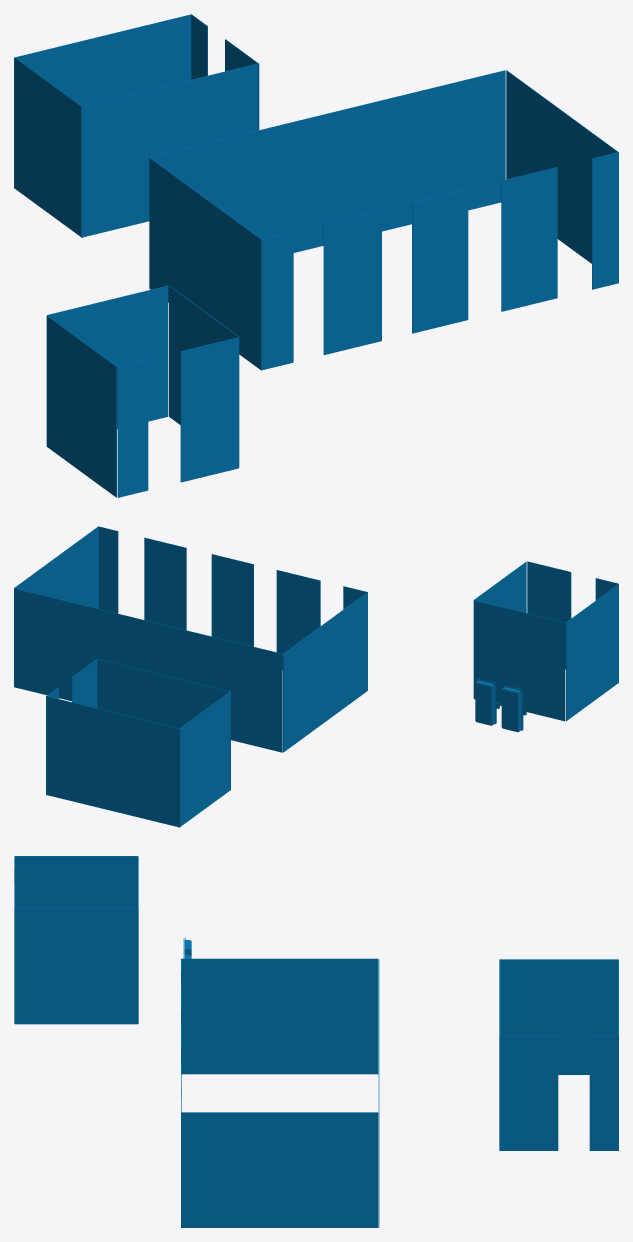
Rendered from Zoll_Base_Version3_Level_3_IfcPlate.dae.
3 views of the same model, one above another, from view 1: azimuth 30°, elevation 25°; view 2: azimuth 150°, elevation 25°; view 3: azimuth 270°, elevation 25° (orthographic). The views are drawn at different scales.
Parts seen in each view (by area): view 1: 0heic_ZfD2dRZRO6DWdNo_, 0heic_ZfD2dRZRO6DWdNon, 0heic_ZfD2dRZRO6DWdNjs, 0heic_ZfD2dRZRO6DWdNo7, 0heic_ZfD2dRZRO6DWdNmO, 0heic_ZfD2dRZRO6DWdNpF, 0heic_ZfD2dRZRO6DWdNpB, 0heic_ZfD2dRZRO6DWdNpN, 0heic_ZfD2dRZRO6DWdNpL, 0heic_ZfD2dRZRO6DWdNp9, 0heic_ZfD2dRZRO6DWdNoK, 0heic_ZfD2dRZRO6DWdNoC (+78 smaller); view 2: 0heic_ZfD2dRZRO6DWdNp1, 0heic_ZfD2dRZRO6DWdNoQ, 0heic_ZfD2dRZRO6DWdNm2, 0heic_ZfD2dRZRO6DWdNm0, 0heic_ZfD2dRZRO6DWdNm6, 0heic_ZfD2dRZRO6DWdNmC, 0heic_ZfD2dRZRO6DWdNpN, 0heic_ZfD2dRZRO6DWdNja, 0heic_ZfD2dRZRO6DWdNo_, 0heic_ZfD2dRZRO6DWdNon, 0heic_ZfD2dRZRO6DWdNp3, 0heic_ZfD2dRZRO6DWdNpL (+71 smaller); view 3: 0heic_ZfD2dRZRO6DWdNoZ, 0heic_ZfD2dRZRO6DWdNp$, 0heic_ZfD2dRZRO6DWdNjk, 0heic_ZfD2dRZRO6DWdNji, 0heic_ZfD2dRZRO6DWdNoX, 0heic_ZfD2dRZRO6DWdNod, 0heic_ZfD2dRZRO6DWdNob, 0heic_ZfD2dRZRO6DWdNpz, 0heic_ZfD2dRZRO6DWdNpp, 0heic_ZfD2dRZRO6DWdNpn, 0heic_ZfD2dRZRO6DWdNpe, 0heic_ZfD2dRZRO6DWdNje (+32 smaller).
Part boxes in pixels (bbox=[...]): 0heic_ZfD2dRZRO6DWdNo_: bbox=[425, 231, 468, 330]; 0heic_ZfD2dRZRO6DWdNon: bbox=[515, 209, 557, 308]; 0heic_ZfD2dRZRO6DWdNjs: bbox=[196, 379, 238, 478]; 0heic_ZfD2dRZRO6DWdNo7: bbox=[339, 252, 381, 351]; 0heic_ZfD2dRZRO6DWdNmO: bbox=[81, 138, 123, 237]; 0heic_ZfD2dRZRO6DWdNpF: bbox=[277, 158, 319, 252]; 0heic_ZfD2dRZRO6DWdNpB: bbox=[362, 137, 404, 231]; 0heic_ZfD2dRZRO6DWdNpN: bbox=[447, 116, 489, 210]; 0heic_ZfD2dRZRO6DWdNpL: bbox=[405, 126, 447, 225]; 0heic_ZfD2dRZRO6DWdNp9: bbox=[320, 147, 362, 246]; 0heic_ZfD2dRZRO6DWdNoK: bbox=[117, 401, 148, 497]; 0heic_ZfD2dRZRO6DWdNoC: bbox=[263, 273, 293, 369]; 0heic_ZfD2dRZRO6DWdNp1: bbox=[250, 678, 282, 752]; 0heic_ZfD2dRZRO6DWdNoQ: bbox=[533, 646, 565, 721]; 0heic_ZfD2dRZRO6DWdNm2: bbox=[110, 743, 141, 818]; 0heic_ZfD2dRZRO6DWdNm0: bbox=[78, 735, 109, 810]; 0heic_ZfD2dRZRO6DWdNm6: bbox=[46, 728, 77, 802]; 0heic_ZfD2dRZRO6DWdNmC: bbox=[142, 751, 173, 825]; 0heic_ZfD2dRZRO6DWdNpN: bbox=[26, 623, 57, 695]; 0heic_ZfD2dRZRO6DWdNja: bbox=[501, 639, 532, 713]; 0heic_ZfD2dRZRO6DWdNo_: bbox=[211, 586, 243, 644]; 0heic_ZfD2dRZRO6DWdNon: bbox=[144, 569, 176, 627]; 0heic_ZfD2dRZRO6DWdNp3: bbox=[218, 670, 250, 744]; 0heic_ZfD2dRZRO6DWdNpL: bbox=[58, 631, 89, 701]; 0heic_ZfD2dRZRO6DWdNoZ: bbox=[205, 1149, 248, 1227]; 0heic_ZfD2dRZRO6DWdNp$: bbox=[311, 996, 354, 1074]; 0heic_ZfD2dRZRO6DWdNjk: bbox=[51, 946, 94, 1024]; 0heic_ZfD2dRZRO6DWdNji: bbox=[94, 946, 137, 1024]; 0heic_ZfD2dRZRO6DWdNoX: bbox=[248, 1149, 291, 1227]; 0heic_ZfD2dRZRO6DWdNod: bbox=[291, 1149, 334, 1227]; 0heic_ZfD2dRZRO6DWdNob: bbox=[335, 1149, 378, 1227]; 0heic_ZfD2dRZRO6DWdNpz: bbox=[268, 996, 311, 1074]; 0heic_ZfD2dRZRO6DWdNpp: bbox=[224, 996, 267, 1074]; 0heic_ZfD2dRZRO6DWdNpn: bbox=[181, 996, 224, 1074]; 0heic_ZfD2dRZRO6DWdNpe: bbox=[499, 1072, 542, 1150]; 0heic_ZfD2dRZRO6DWdNje: bbox=[15, 946, 51, 1024].
Bounding box in the file's own units: 25.67 × 25.58 × 5.43.
